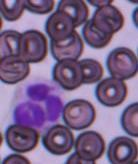N: (10, 78, 65, 132)
